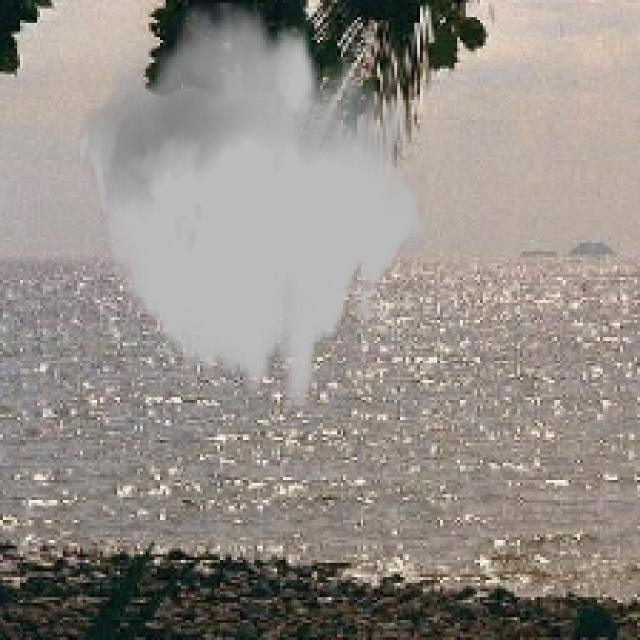Smoke: (74, 3, 429, 406)
